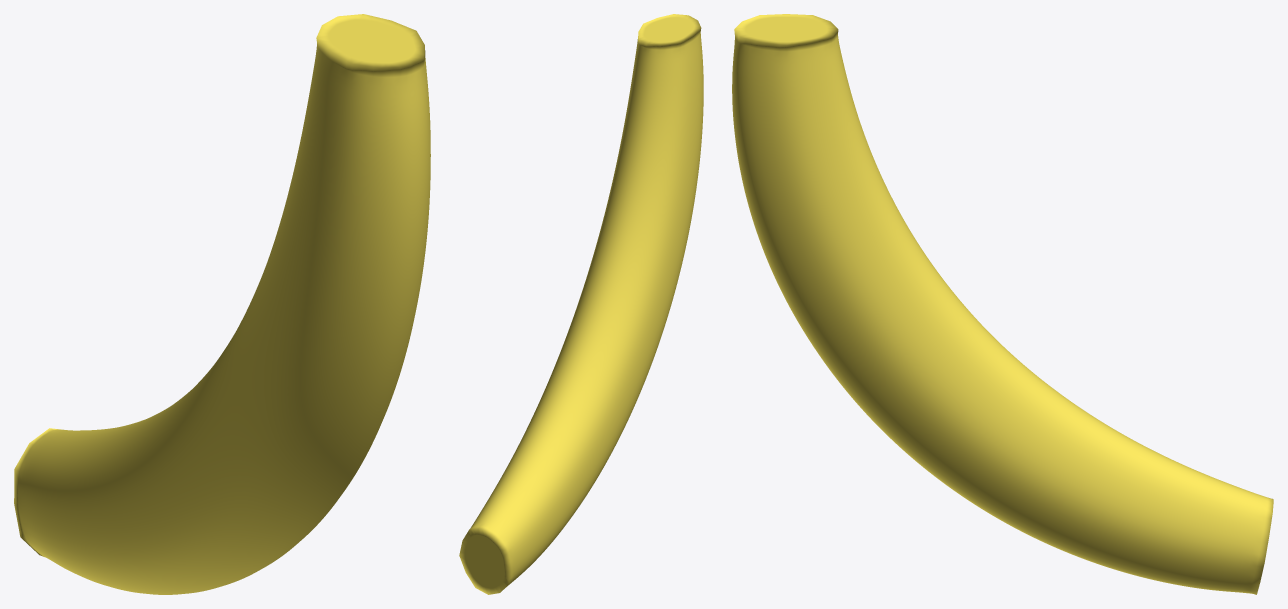
File: banana.glb
3 views of the same model, side by side, from view 1: azimuth 30°, elevation 25°; view 2: azimuth 150°, elevation 25°; view 3: azimuth 270°, elevation 25° (orthographic). The views are drawn at different scales.
Parts seen in each view (by area): view 1: Banana; view 2: Banana; view 3: Banana.
Part boxes in pixels (x1,y1,x2,y2): Banana: (14, 14, 430, 594); Banana: (459, 14, 703, 594); Banana: (732, 14, 1273, 594).
Size of the model in its own units: 0.0276 by 0.161 by 0.1403.
